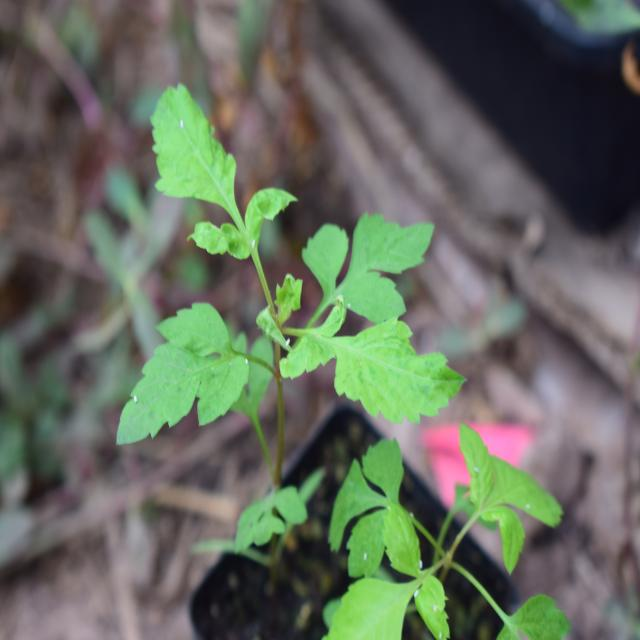Bidens pilosa: (104, 79, 456, 441)
